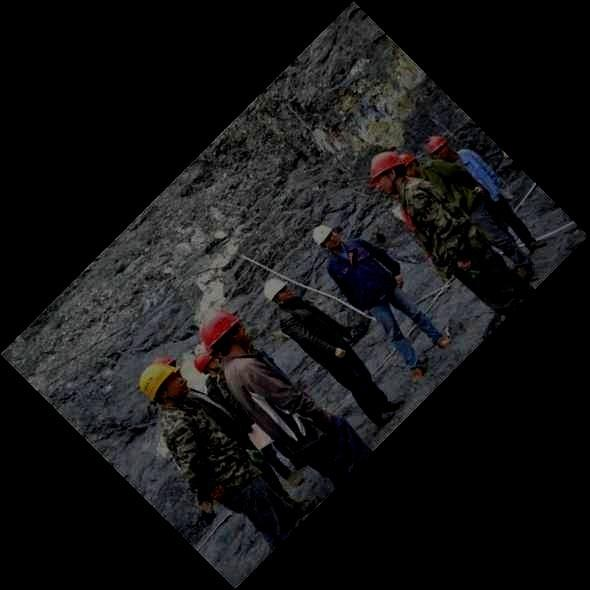helmet: (196, 310, 247, 359), (137, 362, 186, 403), (368, 151, 407, 196), (262, 278, 293, 305), (311, 225, 341, 249), (423, 136, 450, 160), (398, 152, 420, 178), (193, 354, 218, 375), (152, 355, 177, 367)
